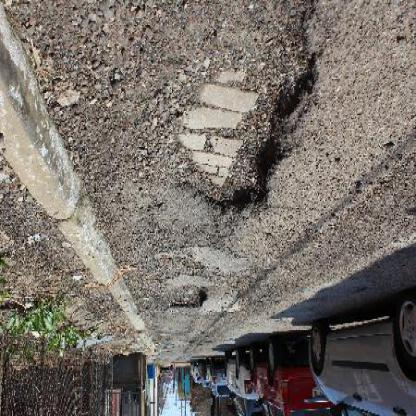pothole: (162, 4, 325, 215), (167, 286, 210, 315)
